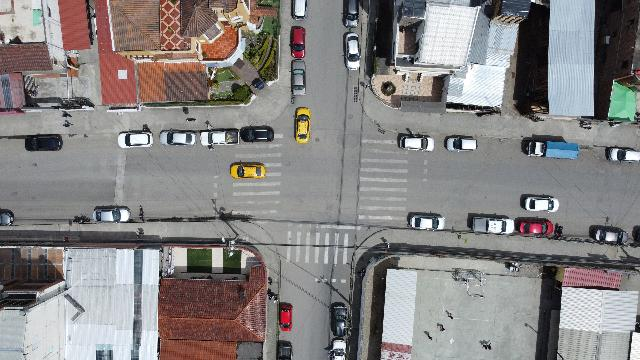Vehiculo: (398, 128, 434, 152), (200, 128, 238, 150), (589, 225, 629, 245), (118, 126, 154, 148), (520, 194, 558, 212), (25, 133, 63, 151), (407, 212, 445, 230), (160, 128, 197, 146), (293, 107, 311, 143), (230, 161, 266, 179), (514, 218, 554, 234), (344, 32, 360, 70), (94, 206, 130, 222), (290, 60, 306, 94), (444, 135, 478, 151), (605, 147, 639, 163), (331, 302, 347, 336), (240, 126, 274, 142), (290, 26, 306, 58), (342, 0, 358, 28), (280, 302, 292, 332), (330, 337, 346, 359), (292, 0, 308, 20), (278, 340, 292, 360), (0, 208, 14, 226)
